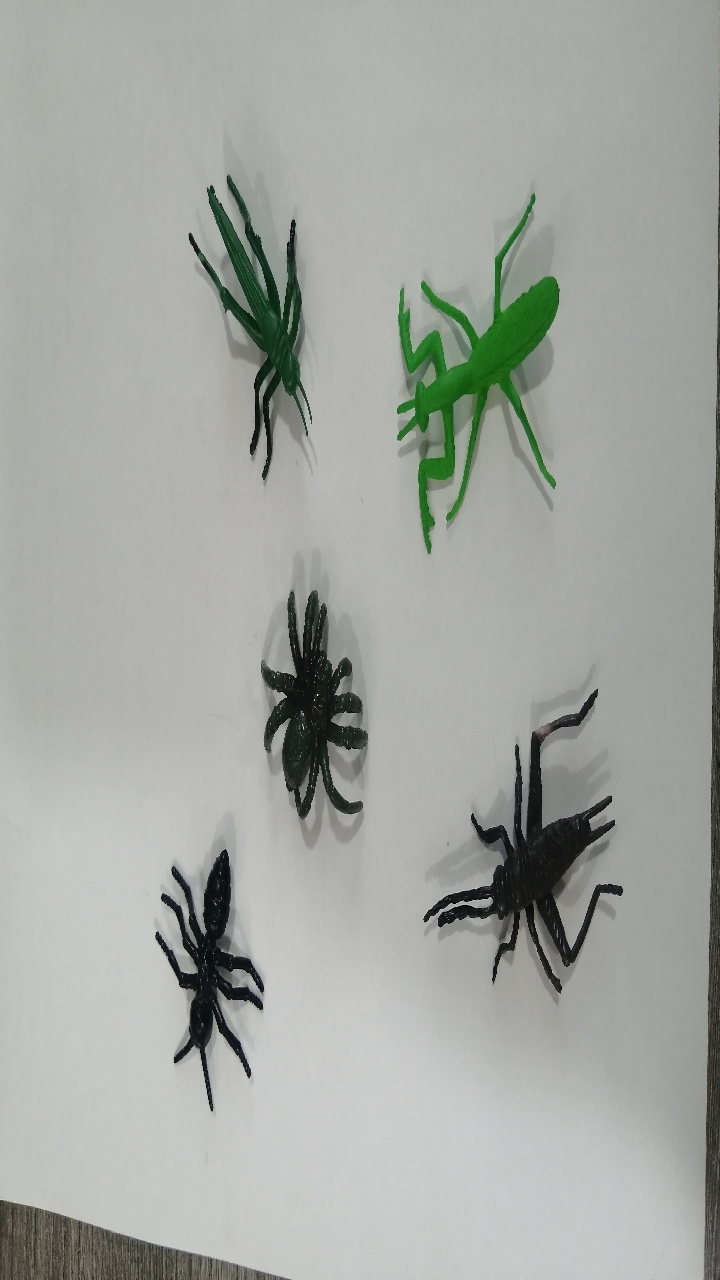intruso: (352, 163, 598, 569), (404, 675, 654, 1028), (135, 145, 349, 512), (194, 559, 404, 866), (126, 822, 298, 1139)
